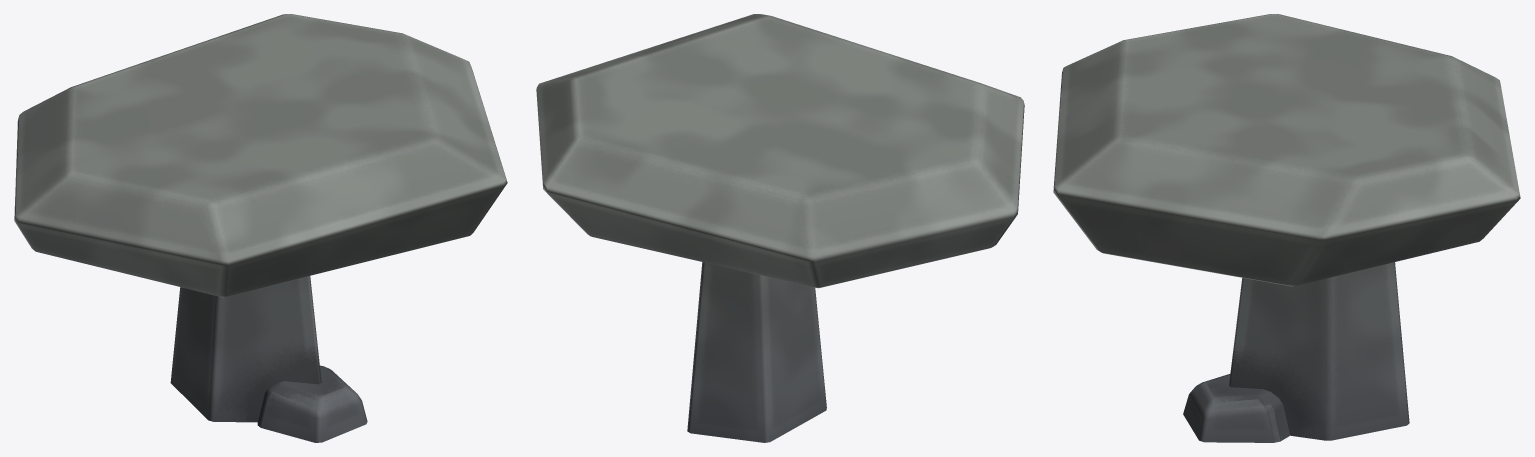
File: table_rock_3.glb
3 views of the same model, side by side, from view 1: azimuth 30°, elevation 25°; view 2: azimuth 150°, elevation 25°; view 3: azimuth 270°, elevation 25° (orthographic). The views are drawn at different scales.
Visible parts, largest first — view 1: table_rock_3; view 2: table_rock_3; view 3: table_rock_3.
Boxes of the visible parts, x1=… form: table_rock_3: x1=14, y1=14, x2=507, y2=442; table_rock_3: x1=536, y1=14, x2=1024, y2=442; table_rock_3: x1=1053, y1=14, x2=1520, y2=442.
Size of the model in its own units: 2.4 by 1.5 by 2.
Materials: 1 (1 with a texture image).
